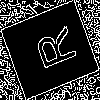R: (25, 24, 79, 76)
